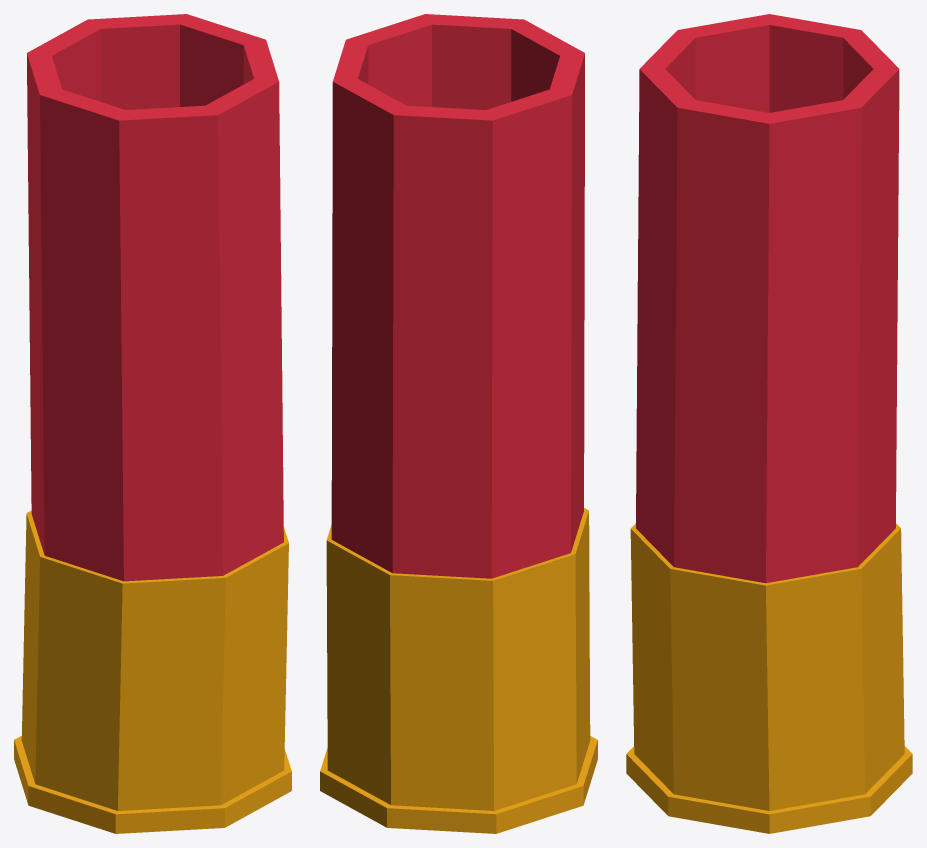
Rendered from Shotgun.fbx.
The picture shows the model from 3 angles, left to right: view 1: azimuth 30°, elevation 25°; view 2: azimuth 150°, elevation 25°; view 3: azimuth 270°, elevation 25°; orthographic projection.
Visible parts, largest first — view 1: Shotgun Ammo; view 2: Shotgun Ammo; view 3: Shotgun Ammo.
Part boxes in pixels (x1,y1,x2,y2): Shotgun Ammo: (14, 14, 291, 833); Shotgun Ammo: (320, 14, 597, 833); Shotgun Ammo: (626, 14, 912, 833).
Size of the model in its own units: 7.3 by 19.83 by 7.3.
